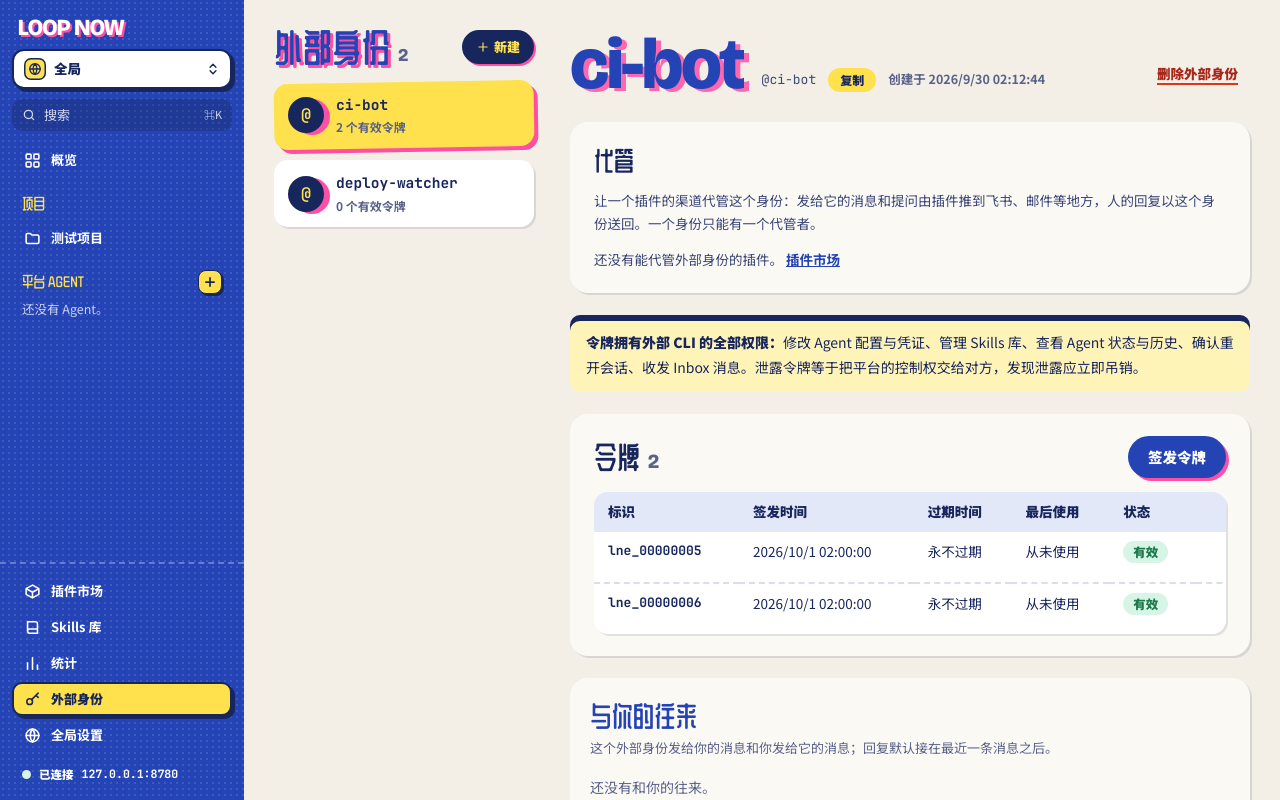
Scenario: 删除外部身份 › 确认框列出四条后果；删除后它从列表中消失，之前与它的线索仍可查看，对方显示为已删除身份
Expected: the heading "外部身份2" is shown, [274,28,408,66]
Expected: the link "@ ci-bot 2 个有效令牌" is shown, [288,95,406,134]
Click the button "删除外部身份" at (1198, 74), box [1145,56,1250,92]
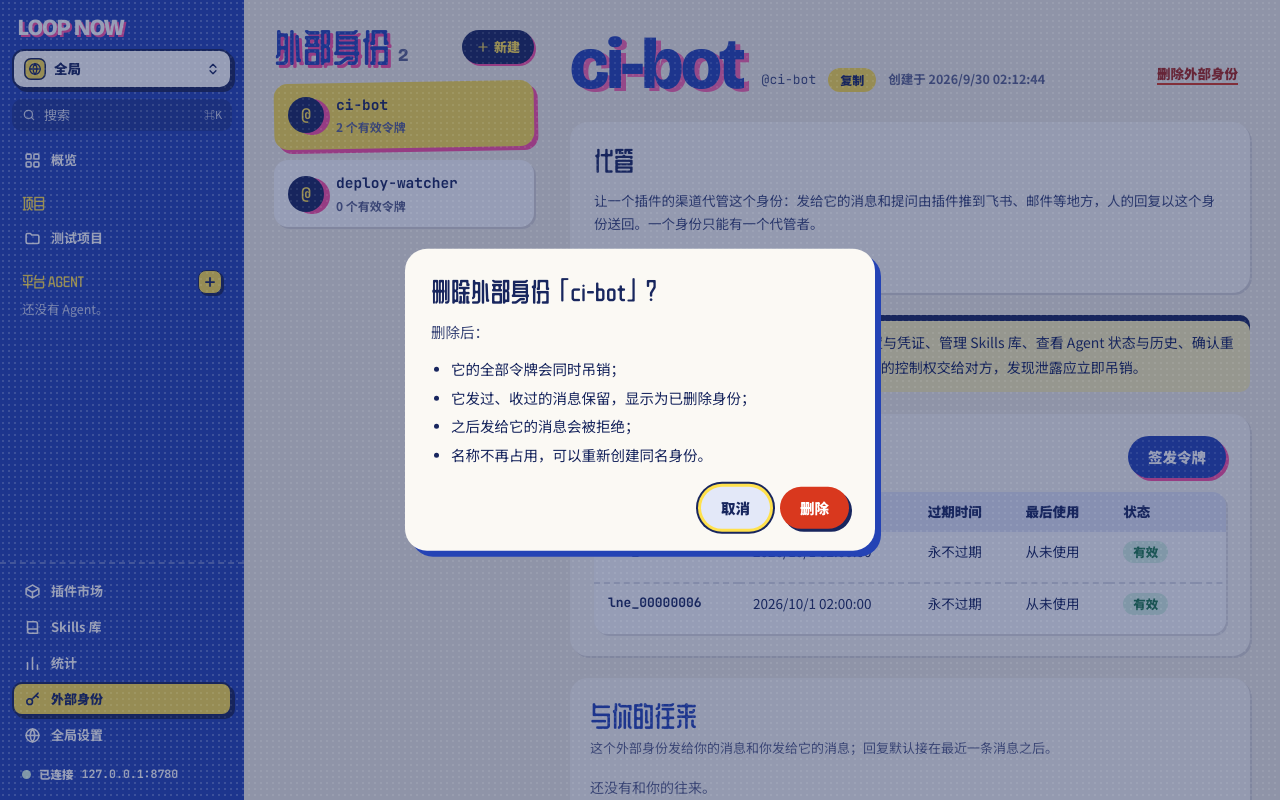
Expected: the list items read "它的全部令牌会同时吊销；", "它发过、收过的消息保留，显示为已删除身份；", "之后发给它的消息会被拒绝；", "名称不再占用，可以重新创建同名身份。", in this order, [451,360,625,378]; [451,388,756,406]; [451,417,640,435]; [451,446,712,464]
Click the button "删除" at (814, 508), box [780,487,849,529]
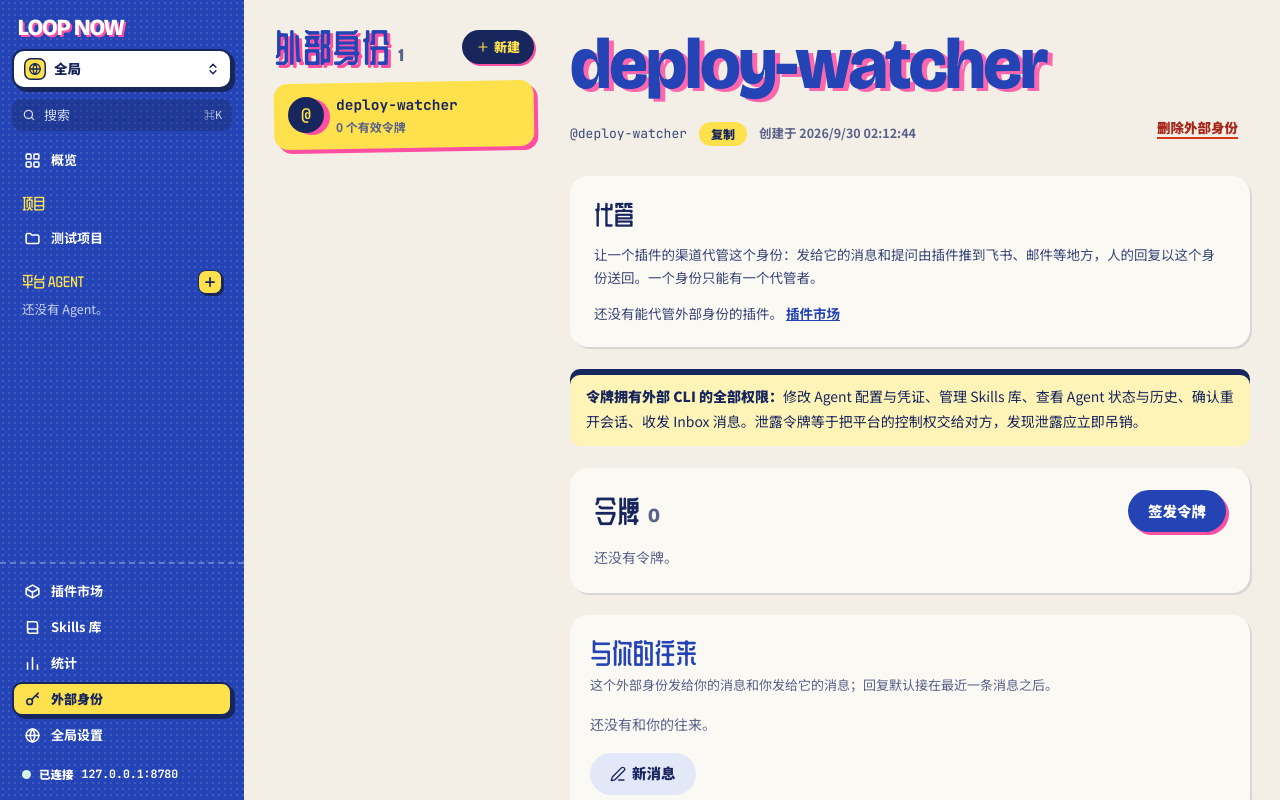
Expected: the link "@ deploy-watcher 0 个有效令牌" is shown, [288,95,458,134]
Expected: the link "ci-bot" is gone
